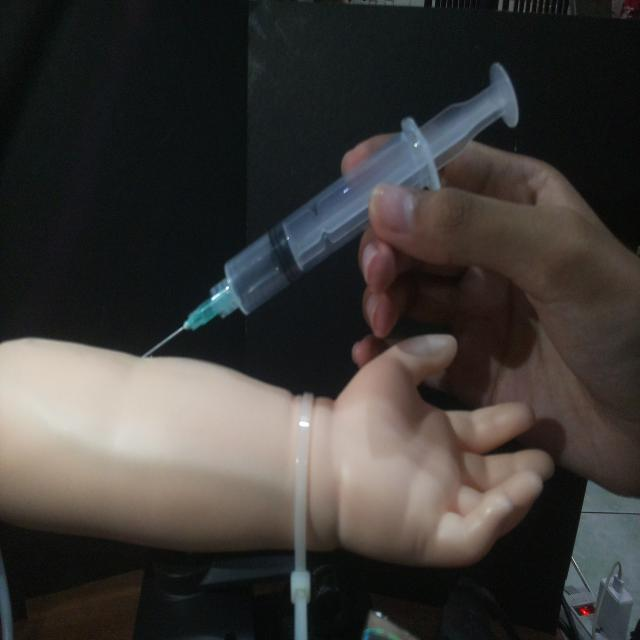29deg: (136, 57, 523, 360)
